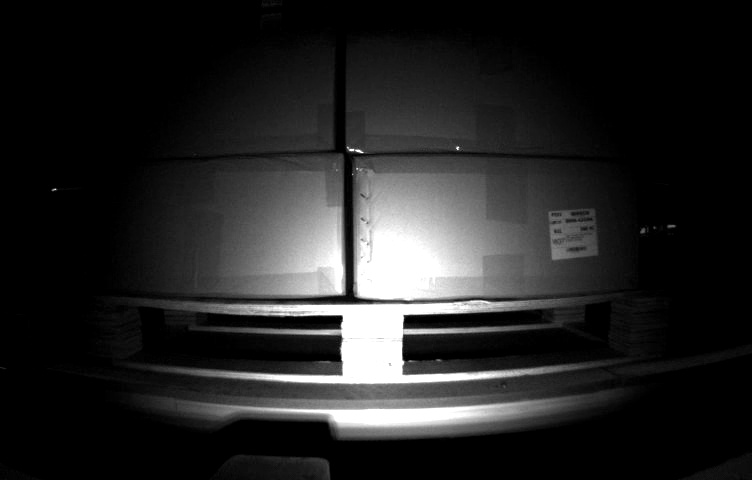True Barcode: (544, 206, 601, 260)
